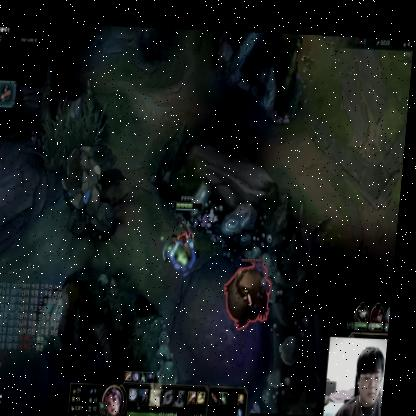streamer: (335, 340, 393, 416)
